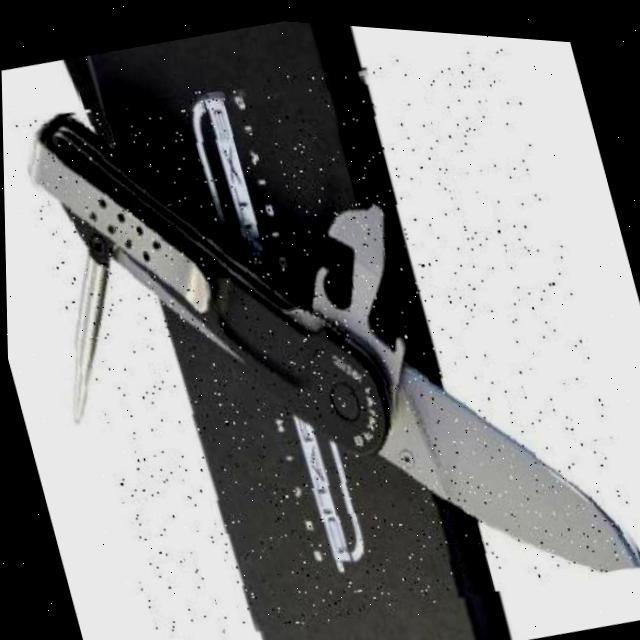knife: (12, 1, 640, 640)
